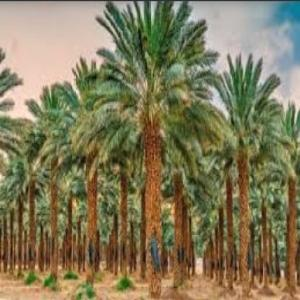palm tree: (86, 0, 225, 295), (211, 51, 283, 295), (275, 99, 299, 298)
